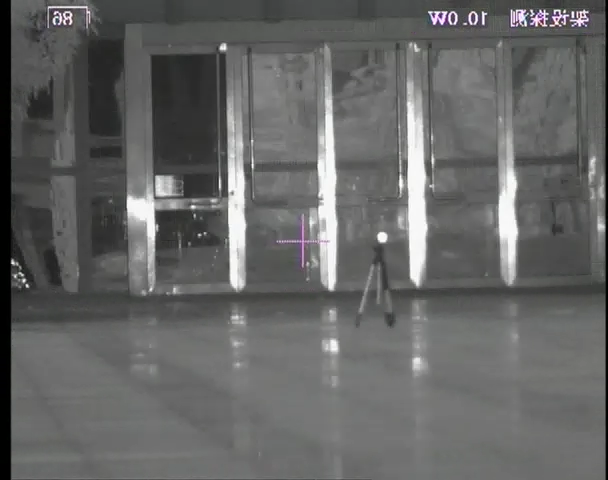my: (375, 230, 389, 244)
